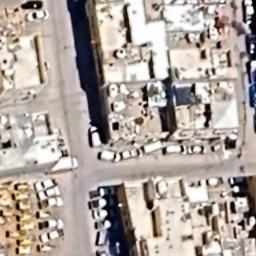SUV: (87, 122, 103, 150), (99, 148, 123, 163), (164, 144, 189, 157)
pickup: (85, 186, 119, 199), (37, 228, 68, 242), (85, 198, 121, 210), (36, 217, 66, 231), (93, 217, 123, 231), (35, 197, 66, 209)
sedan: (34, 186, 62, 202), (33, 176, 60, 192), (120, 145, 145, 160), (88, 206, 116, 218), (186, 142, 208, 156)
